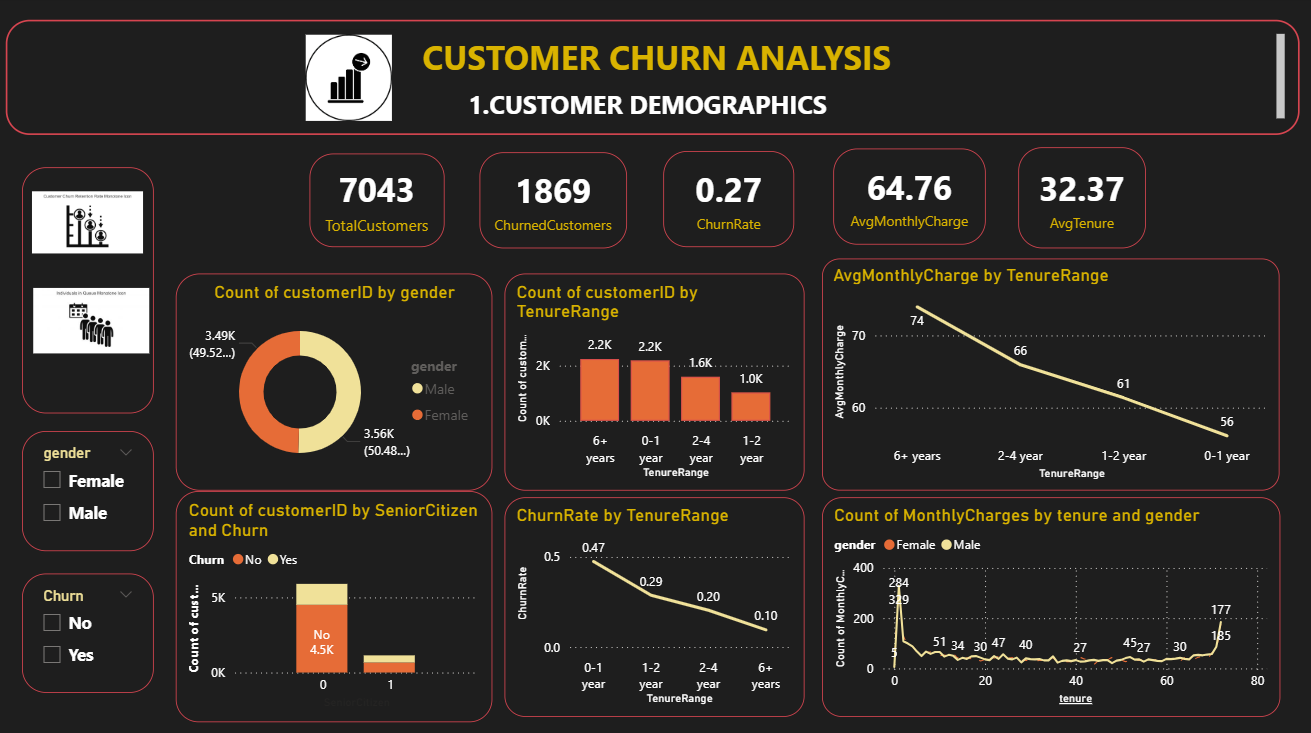

Layout of this report page (visuals, bound fields, positions):
{"tool":"powerbi","page":{"name":"Dashboard1","canvas":[1280,720],"ordinal":0},"visuals":[{"type":"textbox","box":[13.7,23.3,1249,111.1],"z":0},{"type":"slicer","fields":{"Values":["WA_Fn-UseC_-Telco-Customer-Churn.gender"]},"box":[28.8,420,127.5,116.2],"z":1000},{"type":"slicer","fields":{"Values":["WA_Fn-UseC_-Telco-Customer-Churn.Churn"]},"box":[28.8,557.5,127.5,115],"z":2000},{"type":"textbox","box":[28.8,165,127.5,237.5],"z":3000},{"type":"card","fields":{"Values":["WA_Fn-UseC_-Telco-Customer-Churn.TotalCustomers"]},"box":[306.4,152,130.3,90.5],"z":4000},{"type":"card","fields":{"Values":["WA_Fn-UseC_-Telco-Customer-Churn.ChurnedCustomers"]},"box":[470.5,150.8,142.4,92.9],"z":5000},{"type":"card","fields":{"Values":["WA_Fn-UseC_-Telco-Customer-Churn.ChurnRate"]},"box":[647.9,149.6,126.7,92.9],"z":6000},{"type":"card","fields":{"Values":["WA_Fn-UseC_-Telco-Customer-Churn.AvgMonthlyCharge"]},"box":[811.9,147.2,147.2,92.9],"z":7000},{"type":"card","fields":{"Values":["WA_Fn-UseC_-Telco-Customer-Churn.AvgTenure"]},"box":[990.5,146,123.1,97.7],"z":8000},{"type":"donutChart","fields":{"Category":["WA_Fn-UseC_-Telco-Customer-Churn.gender"],"Y":["CountNonNull(WA_Fn-UseC_-Telco-Customer-Churn.customerID)"]},"box":[177.3,267.8,305.2,209.9],"z":9000},{"type":"columnChart","fields":{"Series":["WA_Fn-UseC_-Telco-Customer-Churn.Churn"],"Category":["WA_Fn-UseC_-Telco-Customer-Churn.SeniorCitizen"],"Y":["CountNonNull(WA_Fn-UseC_-Telco-Customer-Churn.customerID)"]},"box":[177.3,477.8,305.2,223.2],"z":10000},{"type":"clusteredColumnChart","fields":{"Category":["WA_Fn-UseC_-Telco-Customer-Churn.TenureRange"],"Y":["CountNonNull(WA_Fn-UseC_-Telco-Customer-Churn.customerID)"]},"box":[494.6,267.8,289.5,209.9],"z":11000},{"type":"lineChart","fields":{"Category":["WA_Fn-UseC_-Telco-Customer-Churn.TenureRange"],"Y":["WA_Fn-UseC_-Telco-Customer-Churn.ChurnRate"]},"box":[494.6,483.8,289.5,212.3],"z":12000},{"type":"lineChart","fields":{"Category":["WA_Fn-UseC_-Telco-Customer-Churn.TenureRange"],"Y":["WA_Fn-UseC_-Telco-Customer-Churn.AvgMonthlyCharge"]},"box":[801.1,253.4,441.6,224.4],"z":13000},{"type":"lineChart","fields":{"Category":["WA_Fn-UseC_-Telco-Customer-Churn.tenure"],"Series":["WA_Fn-UseC_-Telco-Customer-Churn.gender"],"Y":["CountNonNull(WA_Fn-UseC_-Telco-Customer-Churn.MonthlyCharges)"]},"box":[801,484,442,212],"z":14000},{"type":"image","box":[298,32.6,92.9,92.9],"z":15000},{"type":"image","box":[33.8,165.3,117,106.2],"z":16000},{"type":"image","box":[35,254.6,121.9,118.2],"z":17000}]}

Visuals, with their boxes in screenshot pixels (x1, y1, x2, y2), scaled from the page's 1280x720 canvas onto the 1311x733 screenshot:
textbox: select_region(14, 24, 1293, 137)
slicer - WA_Fn-UseC_-Telco-Customer-Churn.gender: select_region(29, 428, 160, 546)
slicer - WA_Fn-UseC_-Telco-Customer-Churn.Churn: select_region(29, 568, 160, 685)
textbox: select_region(29, 168, 160, 410)
card - WA_Fn-UseC_-Telco-Customer-Churn.TotalCustomers: select_region(314, 155, 447, 247)
card - WA_Fn-UseC_-Telco-Customer-Churn.ChurnedCustomers: select_region(482, 154, 628, 248)
card - WA_Fn-UseC_-Telco-Customer-Churn.ChurnRate: select_region(664, 152, 793, 247)
card - WA_Fn-UseC_-Telco-Customer-Churn.AvgMonthlyCharge: select_region(832, 150, 982, 244)
card - WA_Fn-UseC_-Telco-Customer-Churn.AvgTenure: select_region(1014, 149, 1141, 248)
donutChart - WA_Fn-UseC_-Telco-Customer-Churn.gender x CountNonNull(WA_Fn-UseC_-Telco-Customer-Churn.customerID): select_region(182, 273, 494, 486)
columnChart - WA_Fn-UseC_-Telco-Customer-Churn.Churn x WA_Fn-UseC_-Telco-Customer-Churn.SeniorCitizen: select_region(182, 486, 494, 714)
clusteredColumnChart - WA_Fn-UseC_-Telco-Customer-Churn.TenureRange x CountNonNull(WA_Fn-UseC_-Telco-Customer-Churn.customerID): select_region(507, 273, 803, 486)
lineChart - WA_Fn-UseC_-Telco-Customer-Churn.TenureRange x WA_Fn-UseC_-Telco-Customer-Churn.ChurnRate: select_region(507, 493, 803, 709)
lineChart - WA_Fn-UseC_-Telco-Customer-Churn.TenureRange x WA_Fn-UseC_-Telco-Customer-Churn.AvgMonthlyCharge: select_region(821, 258, 1273, 486)
lineChart - WA_Fn-UseC_-Telco-Customer-Churn.tenure x WA_Fn-UseC_-Telco-Customer-Churn.gender: select_region(820, 493, 1273, 709)
image: select_region(305, 33, 400, 128)
image: select_region(35, 168, 154, 276)
image: select_region(36, 259, 161, 380)
